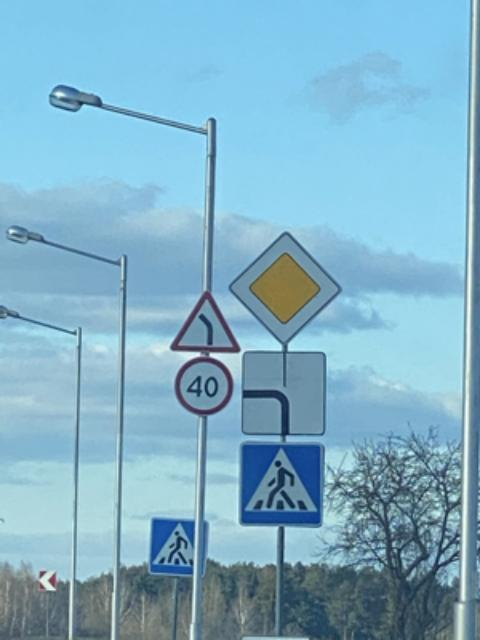crosswalk-sign: (242, 443, 325, 529), (151, 514, 210, 577)
